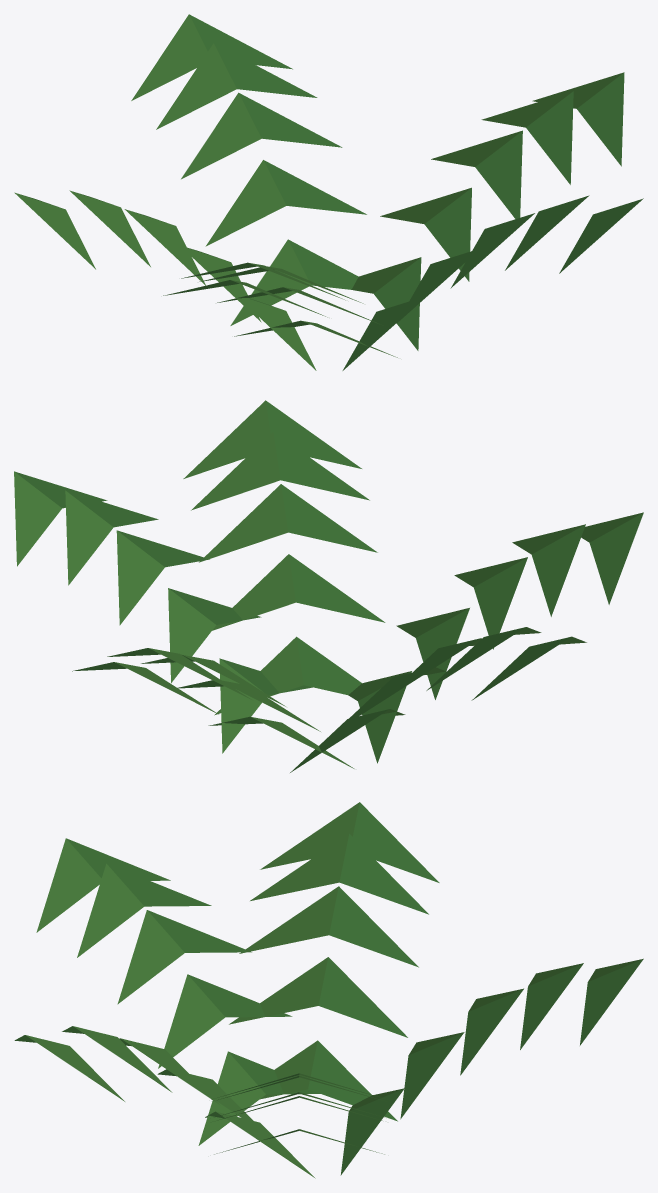
The model's file is fern.glb.
3 renders of one model, top to bottom at view 1: azimuth 30°, elevation 25°; view 2: azimuth 150°, elevation 25°; view 3: azimuth 270°, elevation 25°, orthographic. The views are drawn at different scales.
Visible parts, largest first — view 1: Папоротник; view 2: Папоротник; view 3: Папоротник.
Boxes of the visible parts, x1,y1,x2,y2 form: Папоротник: (14, 14, 643, 370); Папоротник: (14, 400, 643, 772); Папоротник: (14, 802, 643, 1178).
Bounding box in the file's own units: 0.9725 × 0.2964 × 0.8926.
